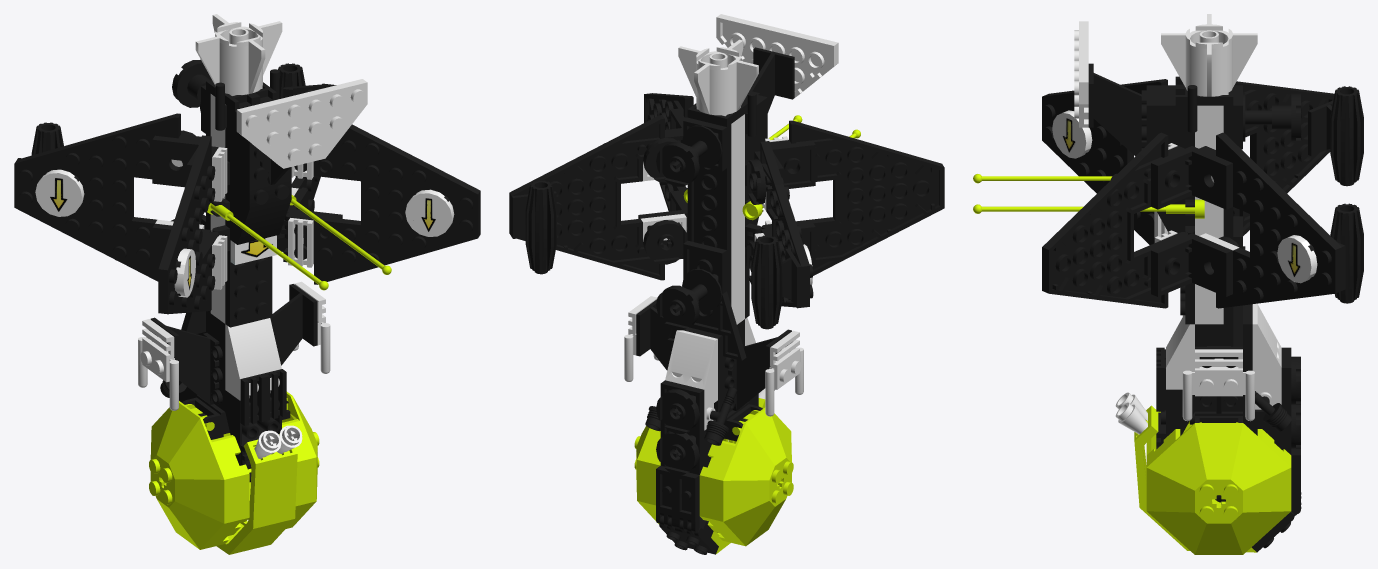
Rendered from 6887_allied_avenger.obj.
3 renders of one model, left to right at view 1: azimuth 30°, elevation 25°; view 2: azimuth 150°, elevation 25°; view 3: azimuth 270°, elevation 25°, orthographic. The views are drawn at different scales.
Parts seen in each view (by area): view 1: Piece029, Piece051, Piece093, Piece056, Piece030, Piece087, Piece026, Piece069, Piece010, Piece035, Piece065, Piece092 (+29 smaller); view 2: Piece030, Piece044, Piece093, Piece056, Piece026, Piece003, Piece055, Piece048, Piece051, Piece058, Piece023, Piece024 (+29 smaller); view 3: Piece092, Piece029, Piece044, Piece051, Piece026, Piece030, Piece020, Piece019, Piece055, Piece041, Piece048, Piece085 (+32 smaller).
Part boxes in pixels (x1,y1,x2,y2): Piece029: (294, 124, 480, 284); Piece051: (14, 113, 201, 281); Piece093: (149, 401, 249, 549); Piece056: (236, 79, 367, 168); Piece030: (158, 135, 217, 314); Piece087: (216, 434, 297, 554); Piece026: (195, 14, 282, 95); Piece069: (225, 318, 281, 400); Piece010: (225, 256, 272, 327); Piece035: (235, 177, 291, 244); Piece065: (149, 317, 219, 404); Piece092: (223, 391, 319, 528); Piece030: (770, 120, 944, 275); Piece044: (509, 115, 683, 280); Piece093: (699, 407, 793, 546); Piece056: (716, 14, 838, 97); Piece026: (678, 39, 758, 116); Piece003: (687, 124, 731, 305); Piece055: (751, 235, 801, 329); Piece048: (511, 180, 556, 274); Piece051: (754, 141, 813, 307); Piece058: (665, 330, 717, 409); Piece023: (656, 269, 722, 330); Piece024: (656, 125, 722, 186); Piece092: (1146, 422, 1291, 554); Piece029: (1042, 132, 1184, 308); Piece044: (1199, 132, 1341, 308); Piece051: (1234, 81, 1334, 235); Piece026: (1161, 14, 1257, 96); Piece030: (1042, 79, 1167, 244); Piece020: (1151, 233, 1232, 296); Piece019: (1151, 146, 1232, 209); Piece055: (1308, 86, 1363, 186); Piece041: (1088, 63, 1146, 155); Piece048: (1330, 203, 1363, 303); Piece085: (1182, 370, 1254, 421).
Bounding box in the file's own units: 123 × 186 × 130.
5 materials, 2 textured.
